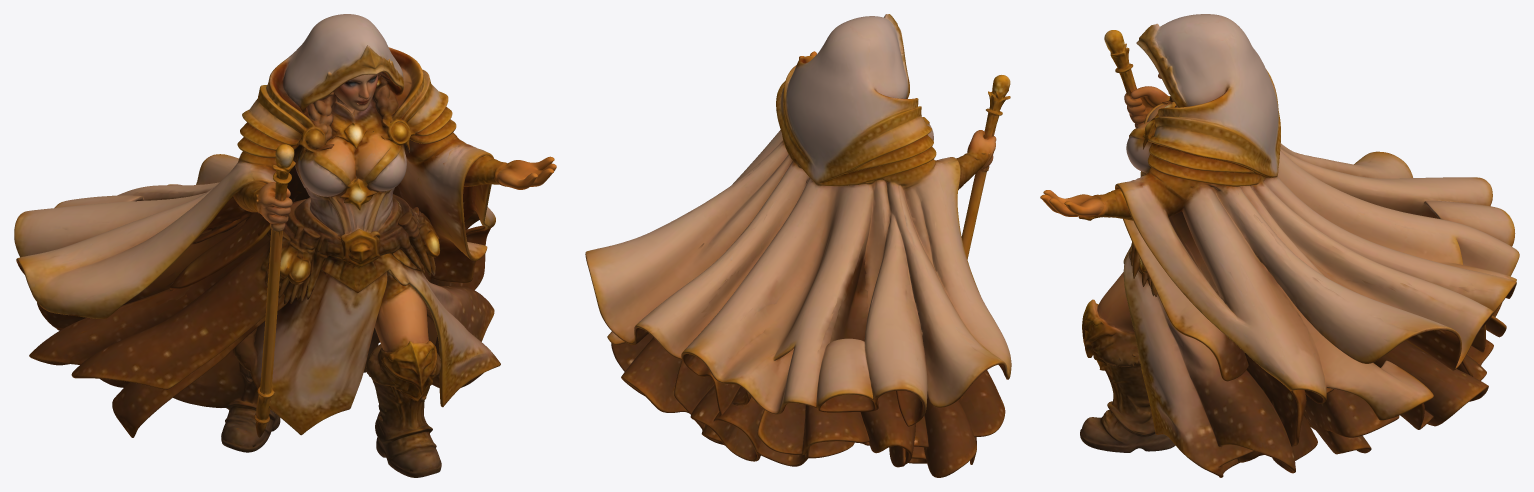
The model's file is dwarf_cleric_full_female_01.glb.
3 views of the same model, side by side, from view 1: azimuth 30°, elevation 25°; view 2: azimuth 150°, elevation 25°; view 3: azimuth 270°, elevation 25° (orthographic). The views are drawn at different scales.
Parts seen in each view (by area): view 1: material; view 2: material; view 3: material.
Boxes of the visible parts, x1,y1,x2,y2 form: material: [14, 14, 556, 477]; material: [585, 14, 1011, 477]; material: [1040, 14, 1519, 477].
Size of the model in its own units: 0.9823 by 0.8891 by 0.9342.
1 material, 1 textured.
